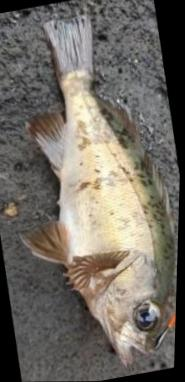fish: (22, 13, 177, 366)
